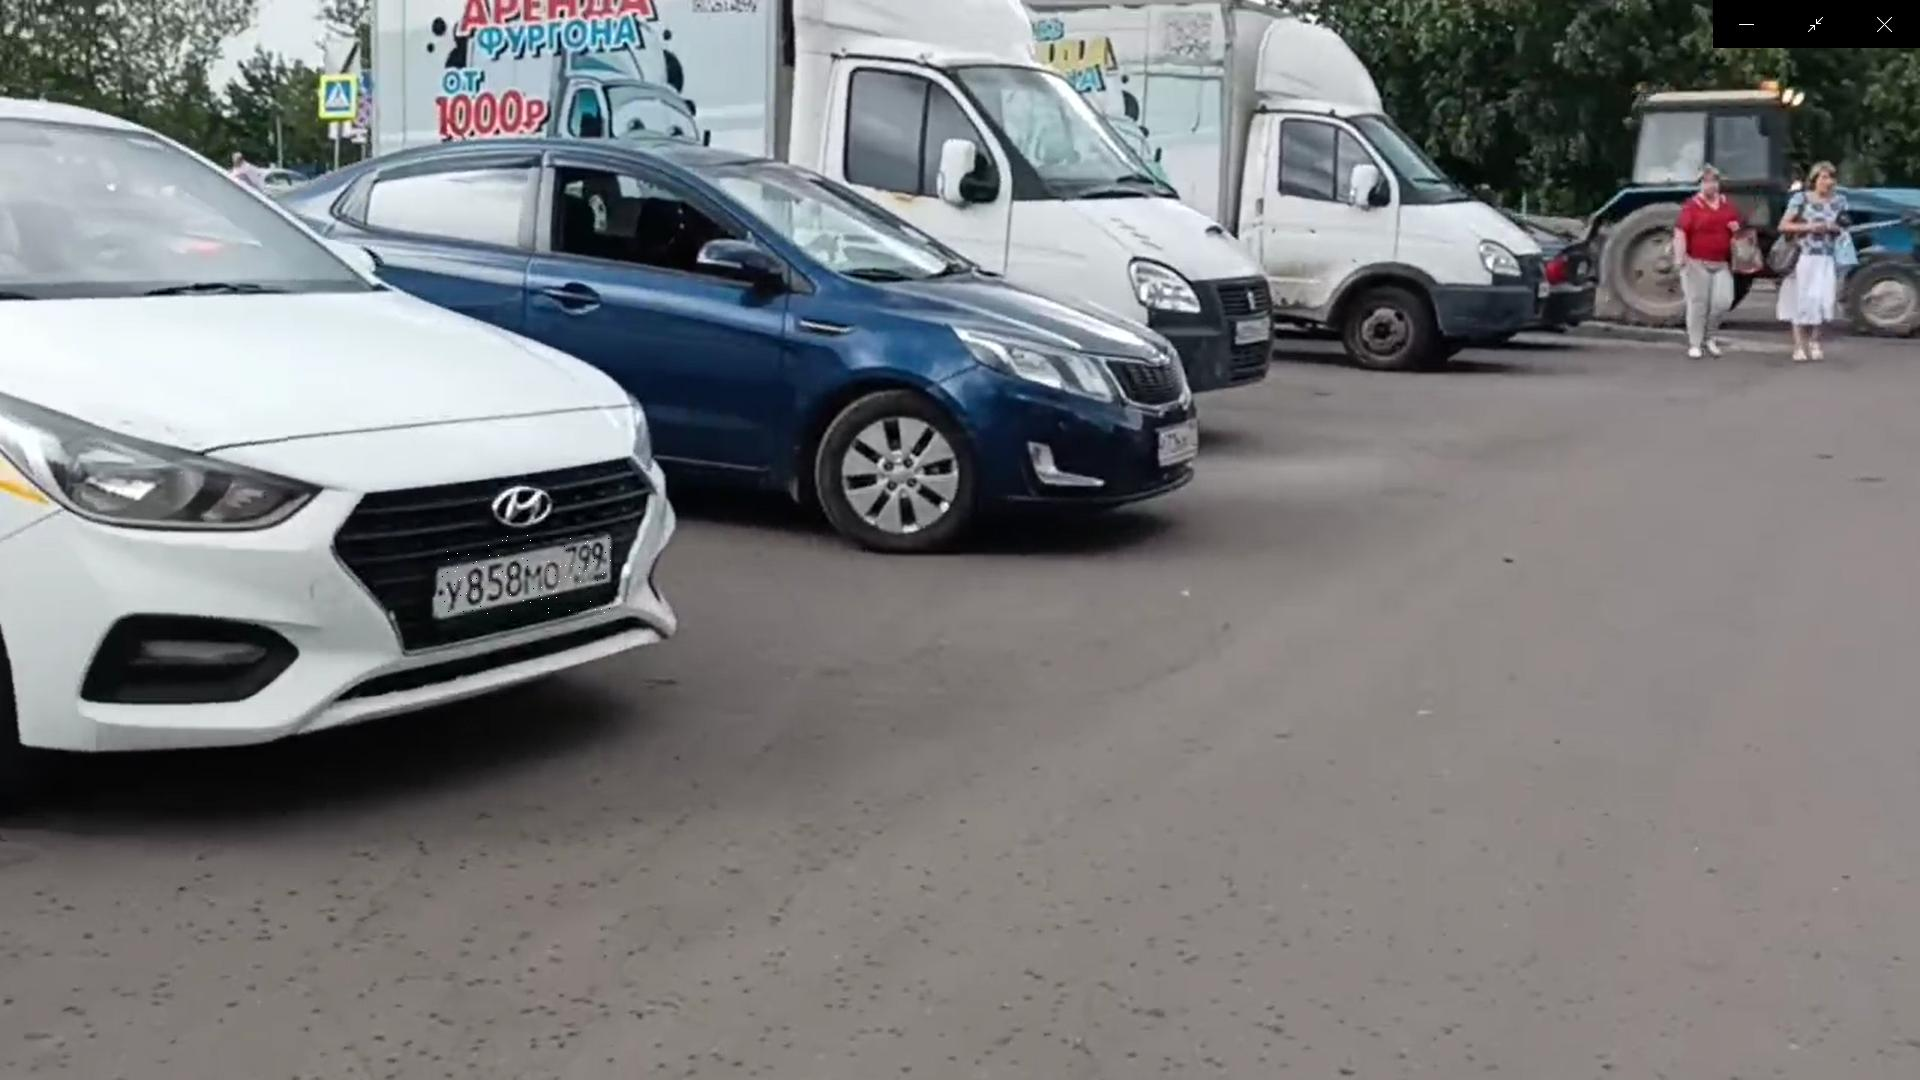plate: (438, 537, 613, 616)
